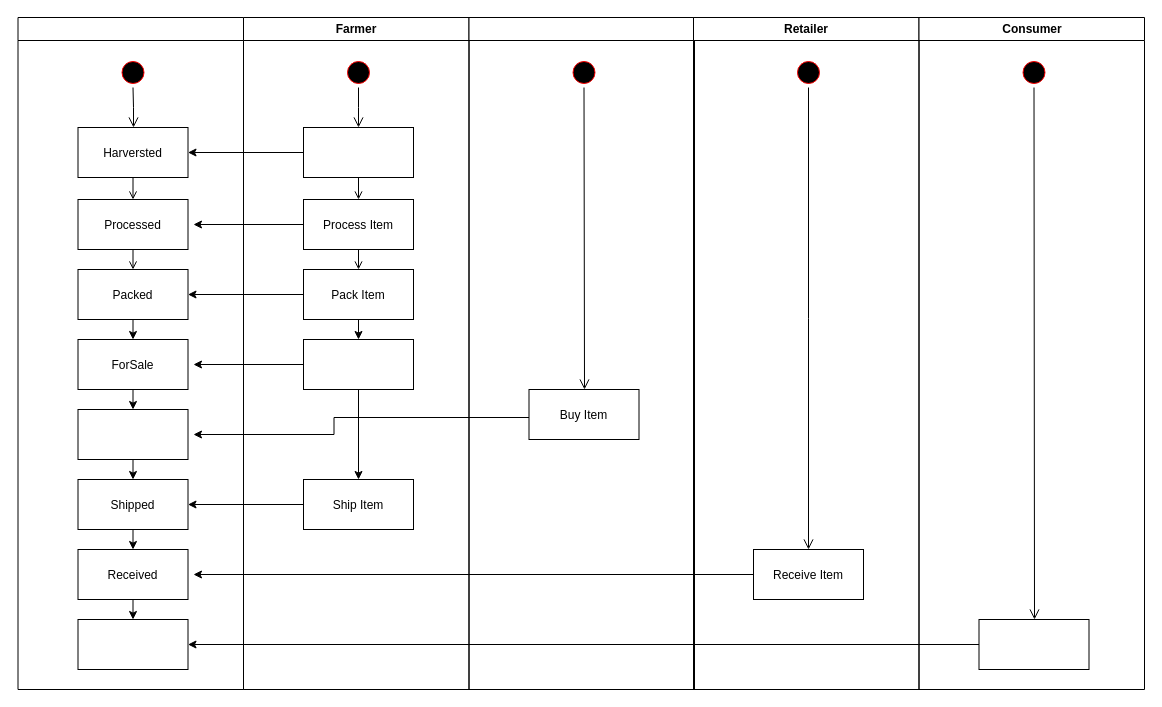
Some shapes in this 1162 by 707 pixel diagram are drawn without their labels. The box of each missing label's shape, as (x1, y1, x2, y2) in pixels:
Add Item: (302, 338, 414, 390)
Coffee: (17, 16, 244, 690)
Distributor: (468, 16, 694, 690)
Harverst Item: (302, 126, 414, 178)
Purchase Item: (978, 618, 1089, 670)
Purchased: (77, 618, 188, 670)
Sold: (77, 408, 188, 460)
